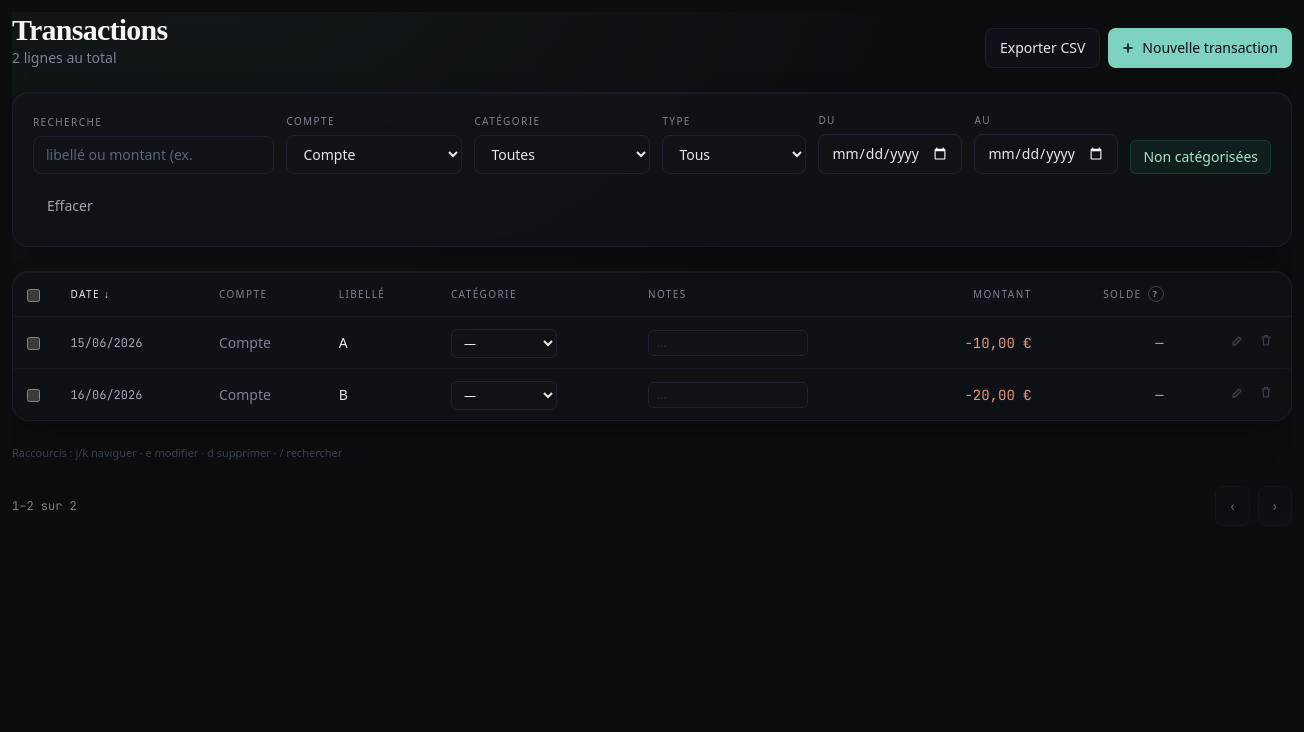
Test case: Transactions page — bulk category › on error keeps the selection and shows the error message
The image size is (1304, 732).
Click the checkbox named "Sélectionner la transaction" at (34, 344), box [27, 337, 40, 350]
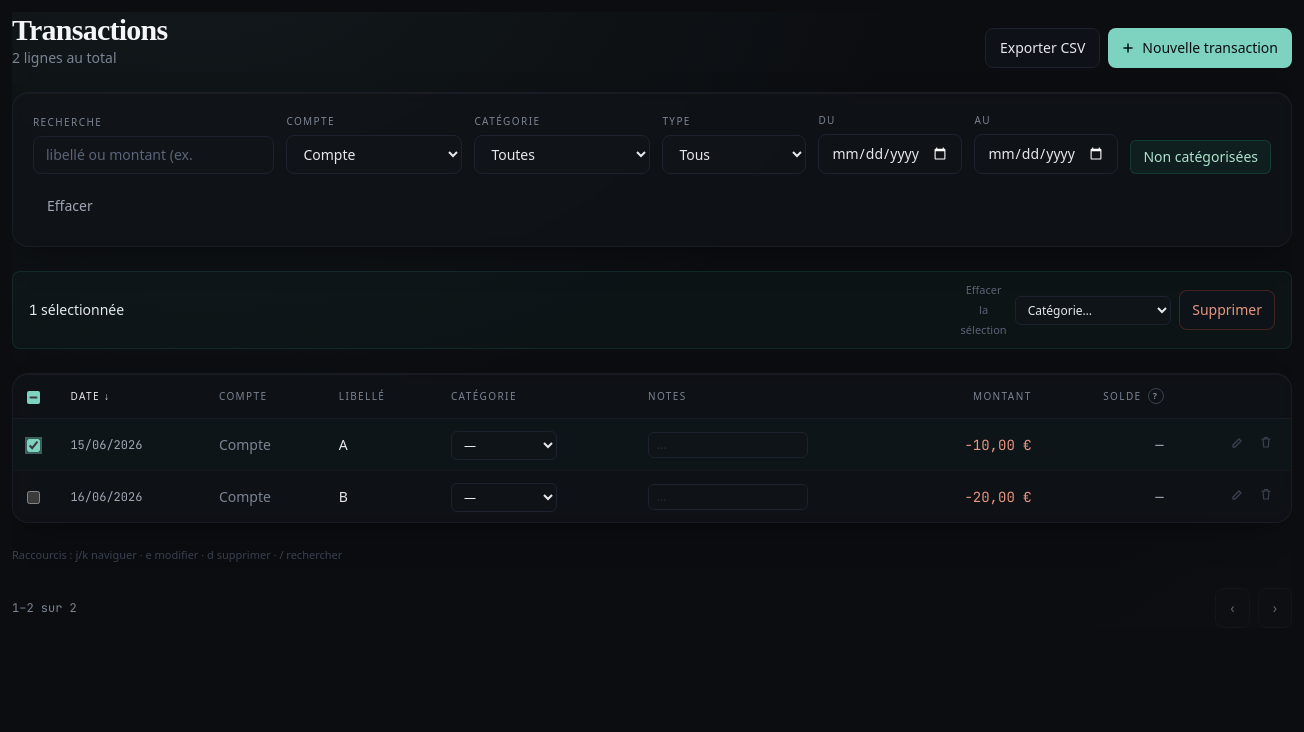
Click the checkbox named "Sélectionner la transaction" at (34, 498), box [27, 491, 40, 504]
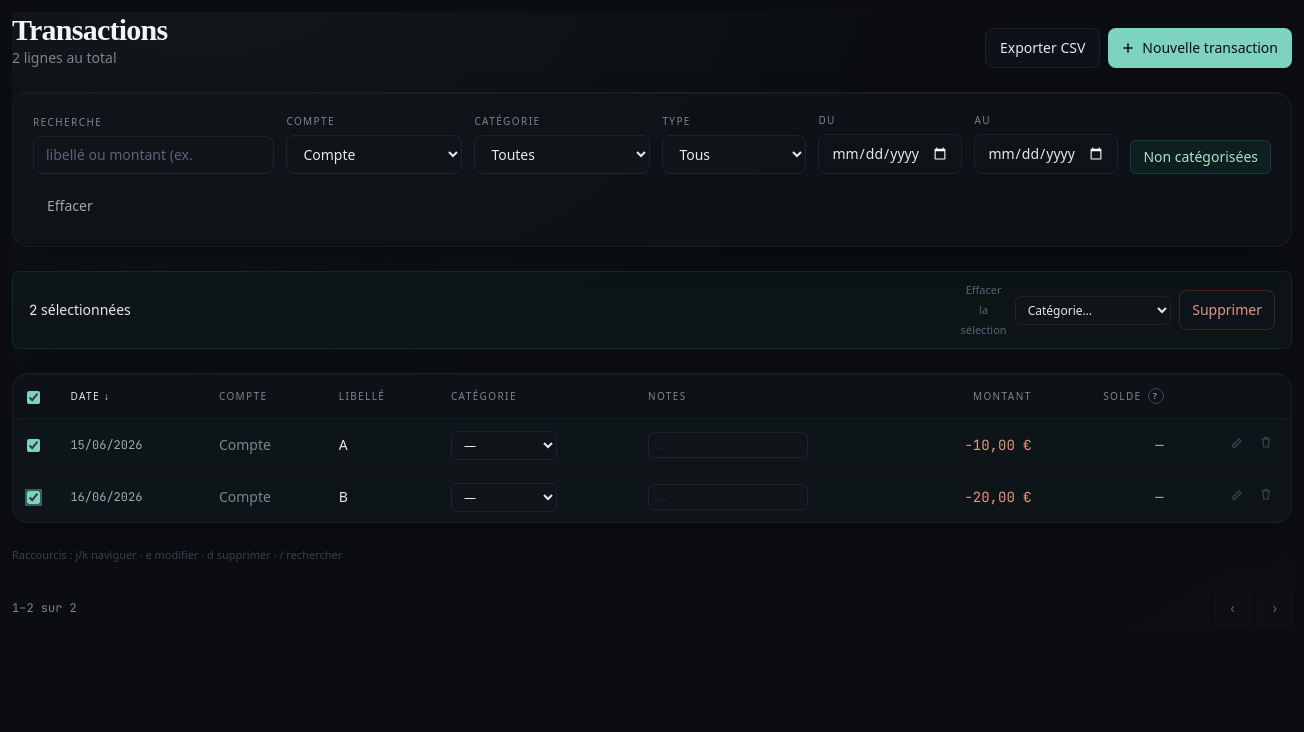
Select "Courses" in the dropdown named "Changer la catégorie des transactions sélectionnées" at (1093, 310), box [1015, 296, 1171, 324]
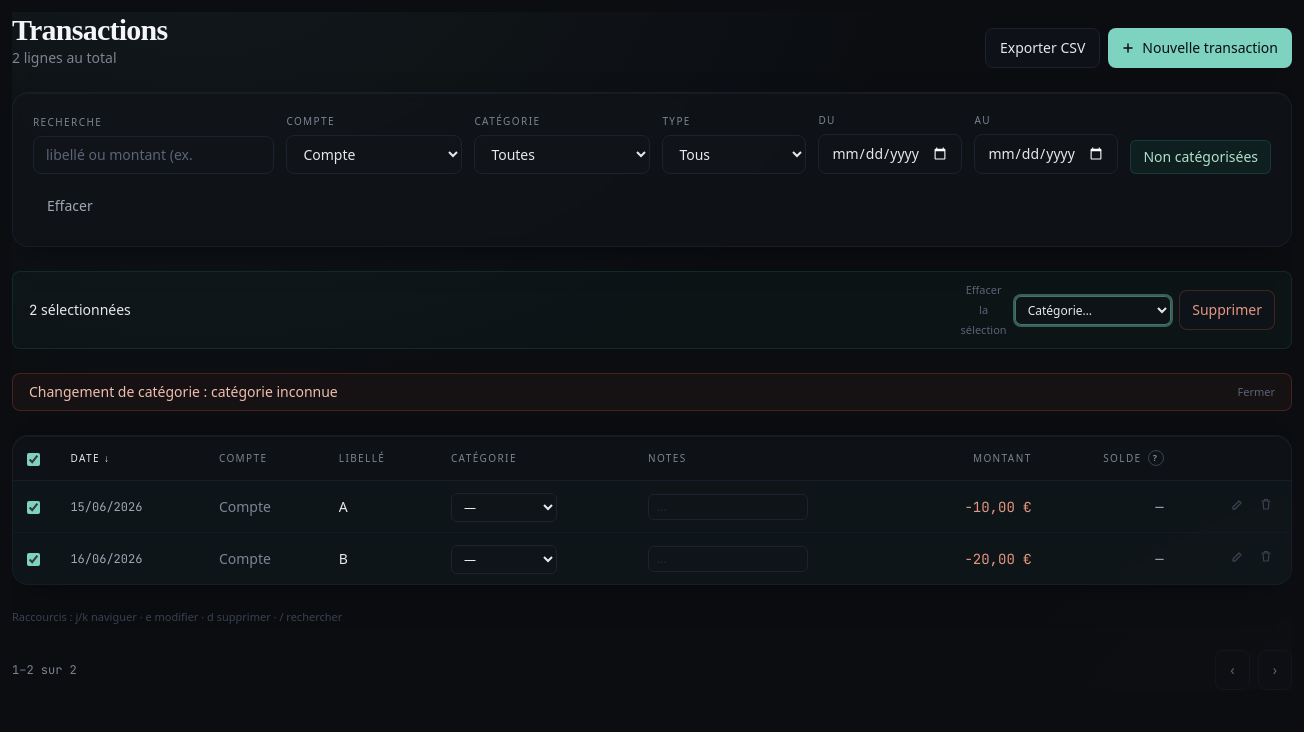
Result: the text "Changement de catégorie : catégorie inconnue" is shown at [29, 382, 338, 402]
